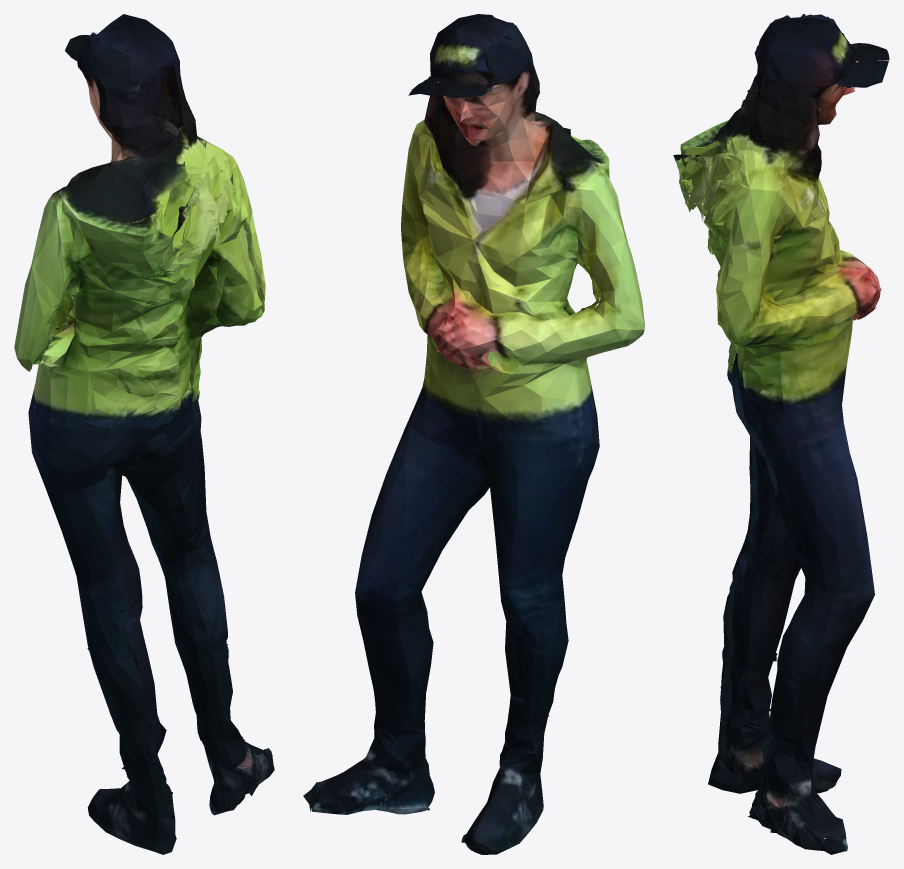
3 renders of one model, left to right at view 1: azimuth 30°, elevation 25°; view 2: azimuth 150°, elevation 25°; view 3: azimuth 270°, elevation 25°, orthographic. The views are drawn at different scales.
Visible parts, largest first — view 1: dec_0006; view 2: dec_0006; view 3: dec_0006.
Boxes of the visible parts, x1=… form: dec_0006: x1=14, y1=14, x2=274, y2=854; dec_0006: x1=303, y1=14, x2=644, y2=854; dec_0006: x1=673, y1=14, x2=889, y2=854.
Bounding box in the file's own units: 0.6799 × 1.77 × 0.4467.
1 material, 1 textured.
